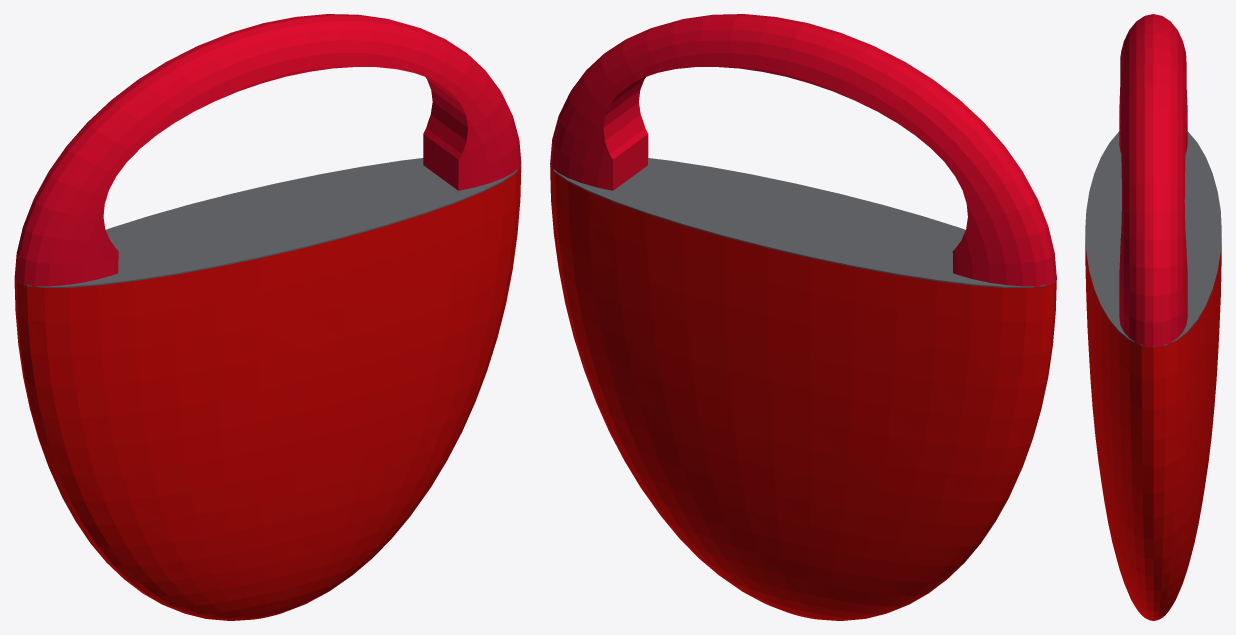
File: plastic.glb
The picture shows the model from 3 angles, left to right: view 1: azimuth 30°, elevation 25°; view 2: azimuth 150°, elevation 25°; view 3: azimuth 270°, elevation 25°; orthographic projection. The views are drawn at different scales.
Visible parts, largest first — view 1: Mesh_Mesh_head_geo.001_lambert2SG.001; view 2: Mesh_Mesh_head_geo.001_lambert2SG.001; view 3: Mesh_Mesh_head_geo.001_lambert2SG.001.
Boxes of the visible parts, x1,y1,x2,y2 form: Mesh_Mesh_head_geo.001_lambert2SG.001: [14, 14, 521, 620]; Mesh_Mesh_head_geo.001_lambert2SG.001: [550, 14, 1056, 620]; Mesh_Mesh_head_geo.001_lambert2SG.001: [1085, 14, 1221, 620].
Size of the model in its own units: 1.42 by 1.6 by 0.3557.
